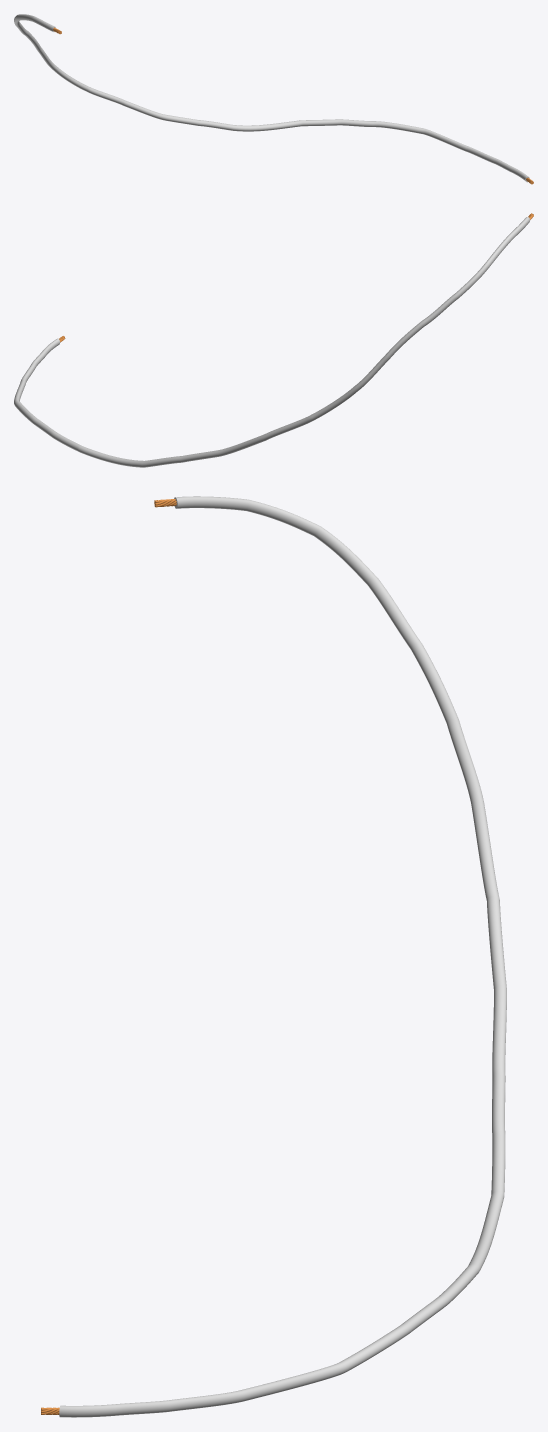
Rendered from wireCircuit11.fbx.
3 renders of one model, top to bottom at view 1: azimuth 30°, elevation 25°; view 2: azimuth 150°, elevation 25°; view 3: azimuth 270°, elevation 25°, orthographic. The views are drawn at different scales.
Visible parts, largest first — view 1: GP_Layer.001; view 2: GP_Layer.001; view 3: GP_Layer.001.
Part boxes in pixels (bbox=[...]): GP_Layer.001: bbox=[14, 14, 529, 182]; GP_Layer.001: bbox=[14, 217, 530, 467]; GP_Layer.001: bbox=[59, 496, 506, 1417].
Size of the model in its own units: 2267 by 1166 by 1014.
